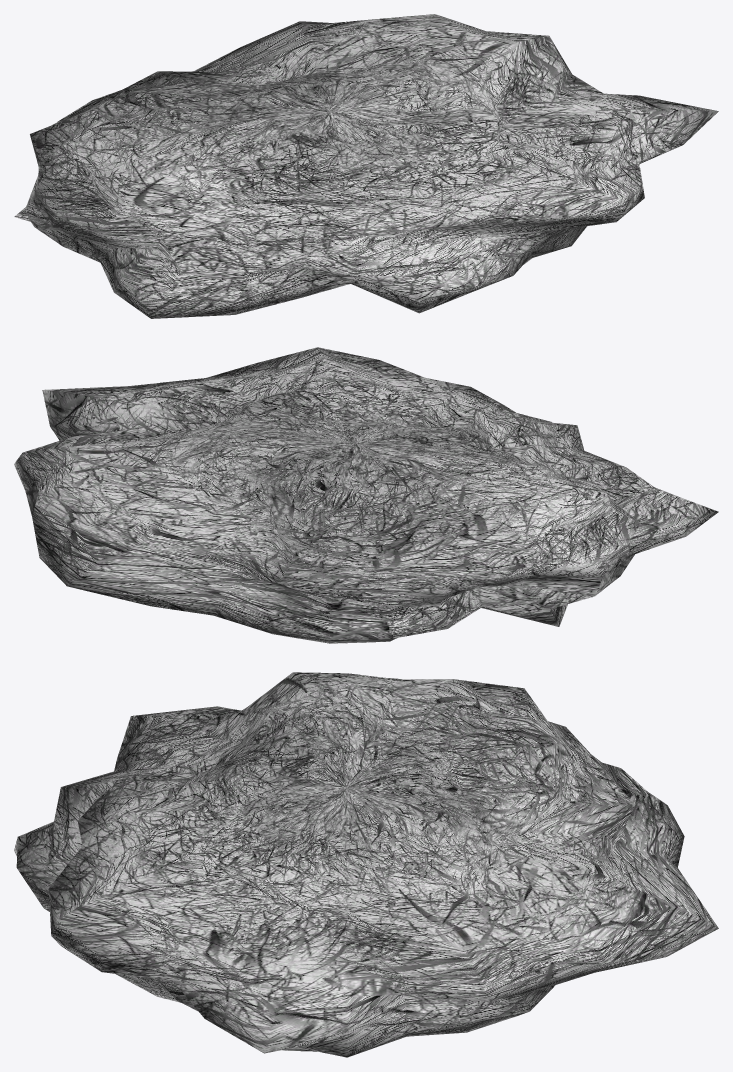
Rendered from scourge_island.obj.
3 renders of one model, top to bottom at view 1: azimuth 30°, elevation 25°; view 2: azimuth 150°, elevation 25°; view 3: azimuth 270°, elevation 25°, orthographic. The views are drawn at different scales.
Visible parts, largest first — view 1: Sphere; view 2: Sphere; view 3: Sphere.
Part boxes in pixels (box(x1,y1,x2,y2)): Sphere: box(14, 14, 718, 318); Sphere: box(14, 347, 718, 643); Sphere: box(14, 672, 718, 1057).
Size of the model in its own units: 12.47 by 2.29 by 10.47.
